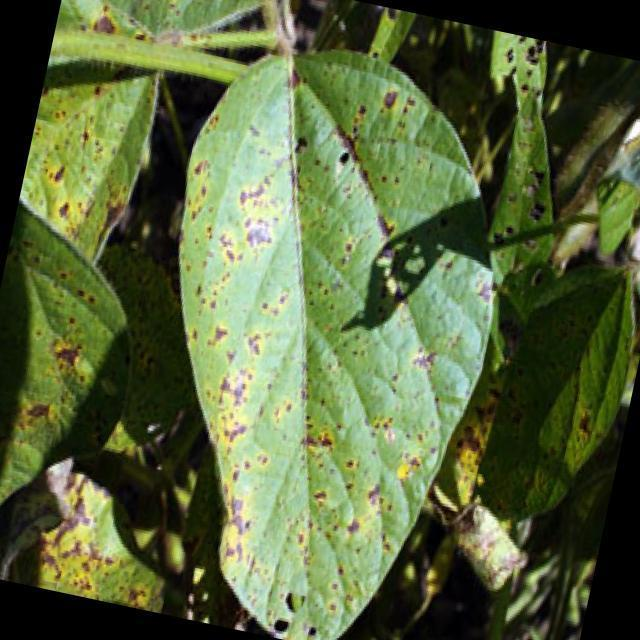Septoria: (115, 51, 524, 614), (15, 43, 160, 240), (56, 0, 252, 70)
